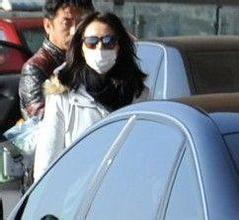NONE: (55, 13, 89, 50)
WRONG: (85, 35, 121, 73)
